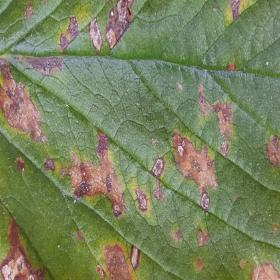Angular Leafspot: (0, 0, 279, 279)
